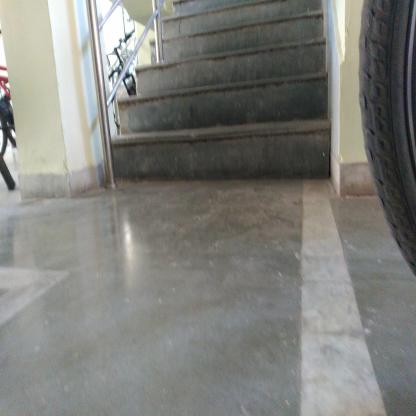stairs: (167, 8, 324, 193)
